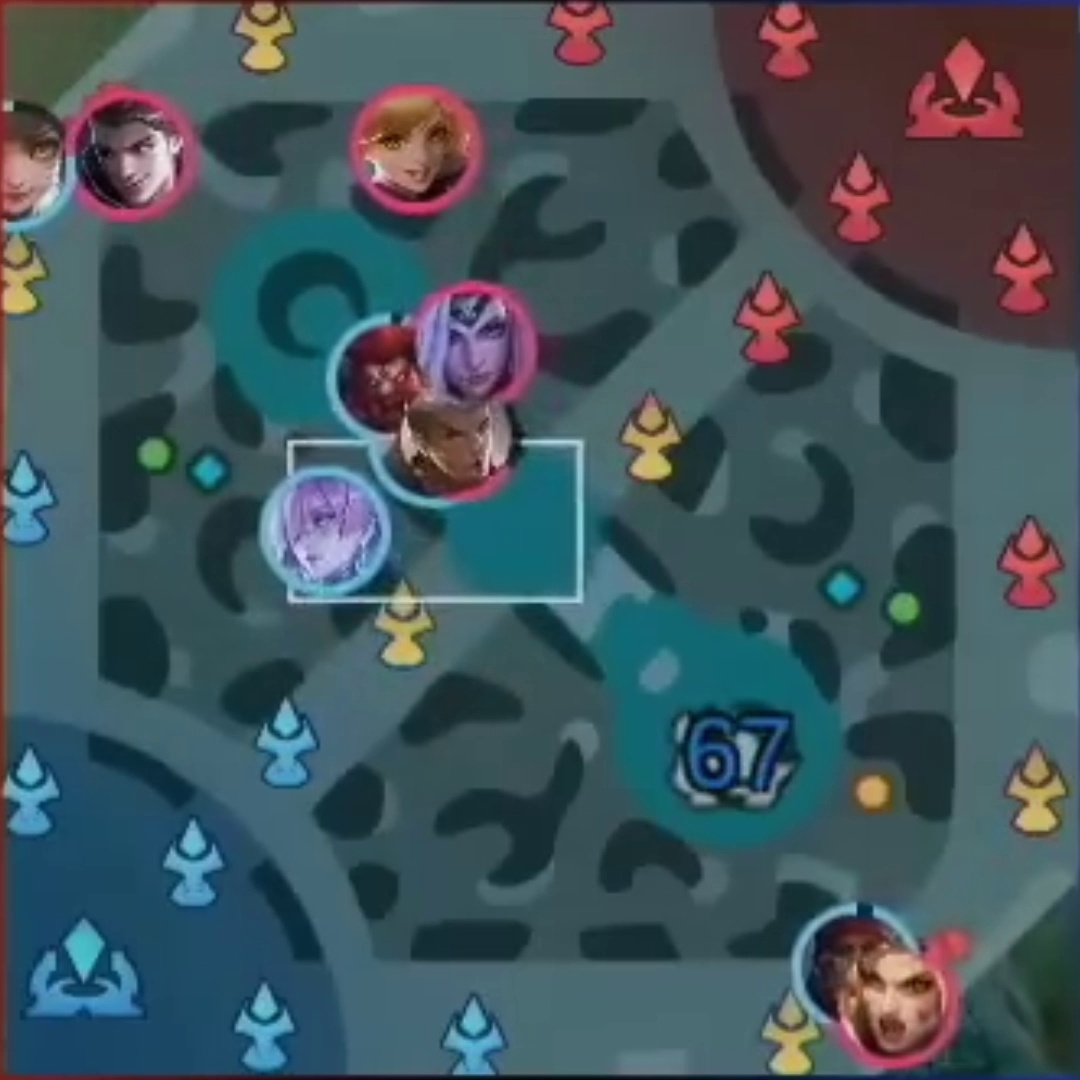Chou: (415, 403, 502, 486)
Claude: (90, 106, 168, 199)
Fanny: (372, 102, 448, 195)
Masha: (857, 957, 936, 1058)
Minotaur: (354, 337, 409, 423)
Novaria: (283, 487, 370, 581)
Valentina: (432, 302, 514, 395)
Wanwan: (4, 111, 56, 217)
